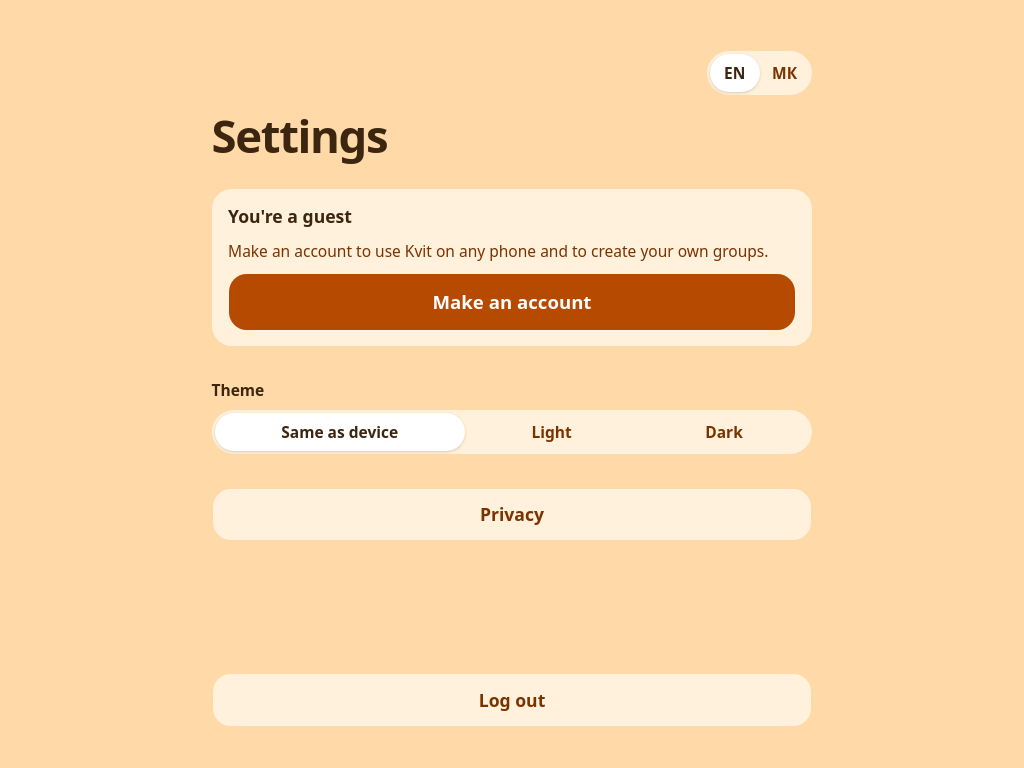
Test: SettingsScreen for a guest › Log out › opens the warning sheet instead of logging out at once, and sends no request
Click the button "Log out": coordinates (512, 700) [212,673,812,727]
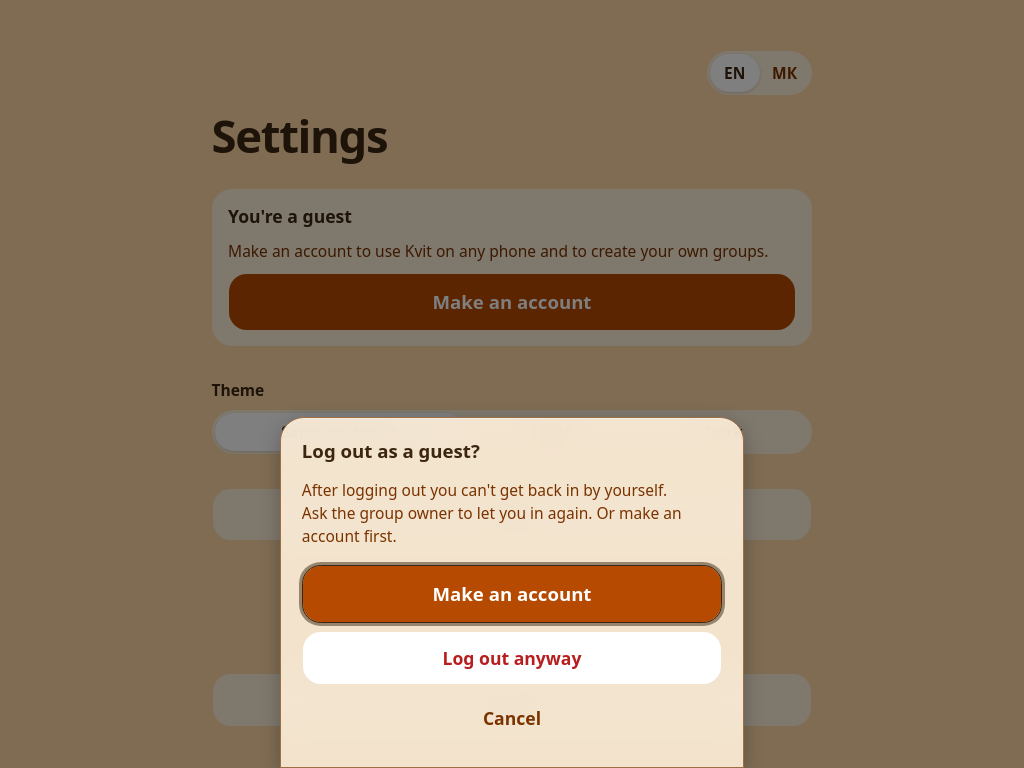
Result: the dialog "Log out as a guest?" is shown at [280,417,744,767]
